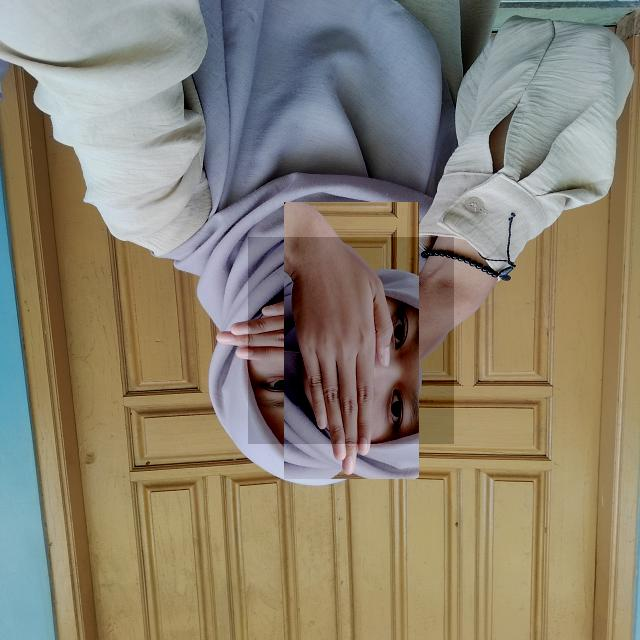buruk: (248, 237, 454, 444)
